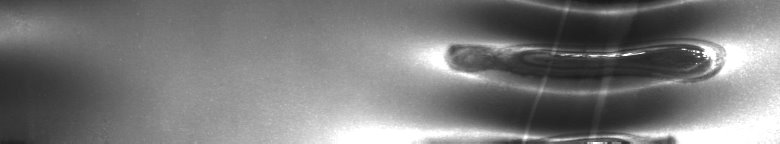ke: (416, 4, 736, 136)
